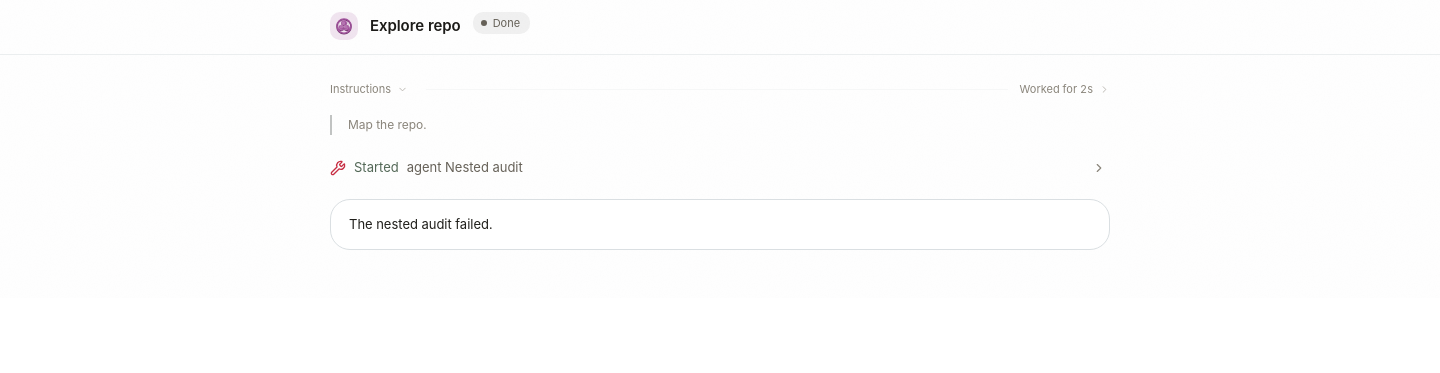
Test: AgentActivity › keeps a failed nested agent inspectable in a finished Compact run
Expected: the text "The nested agent could not start." is not shown
Click the button named "Toggle details for Started agent Nested audit" at [1099, 168], box [1088, 157, 1110, 179]
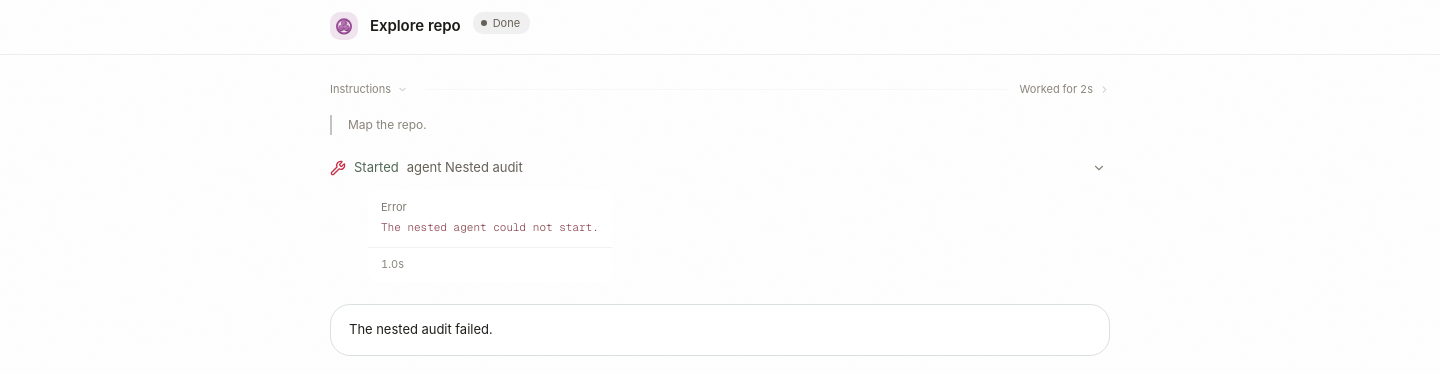
Expected: the text "The nested audit failed." is shown, [349, 322, 492, 338]
Now the text "The nested agent could not start." is shown, box [381, 218, 599, 236]
